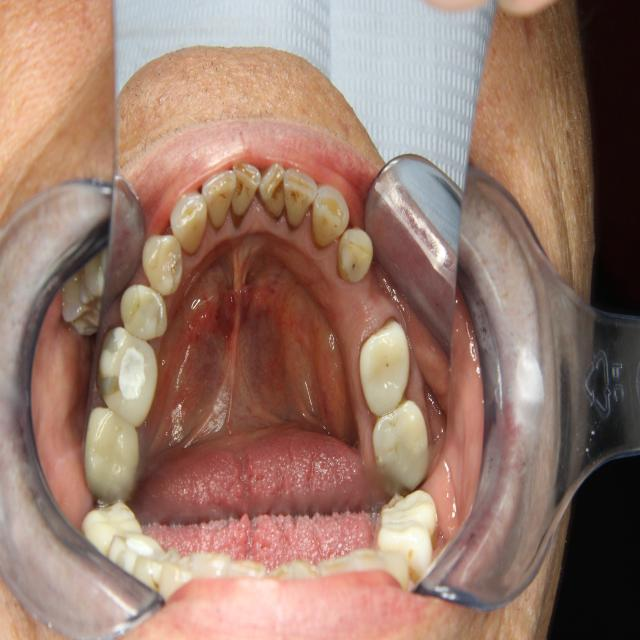tooth: (93, 317, 161, 434), (353, 308, 413, 422), (81, 402, 143, 508), (369, 397, 432, 500), (115, 276, 172, 345), (139, 229, 186, 303), (309, 171, 351, 253), (168, 184, 210, 263), (280, 160, 319, 239), (335, 217, 376, 289), (198, 165, 240, 233), (227, 153, 263, 226), (257, 155, 287, 225)
